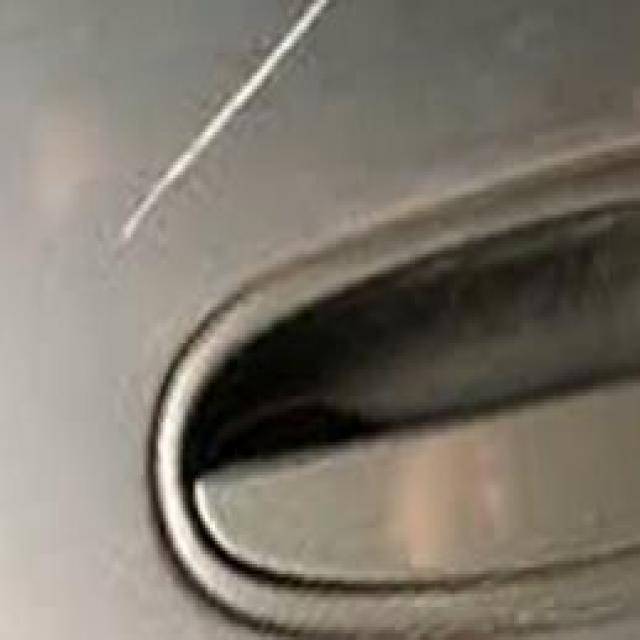scratch: (98, 0, 332, 254)
